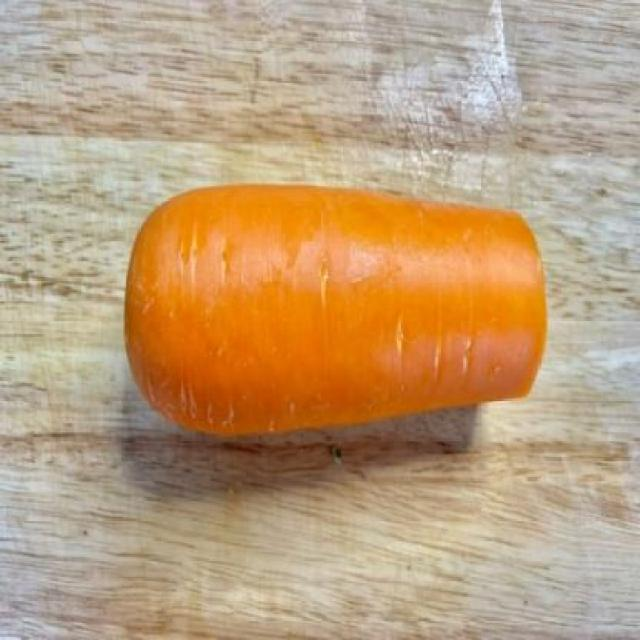carrot: (122, 181, 556, 444)
